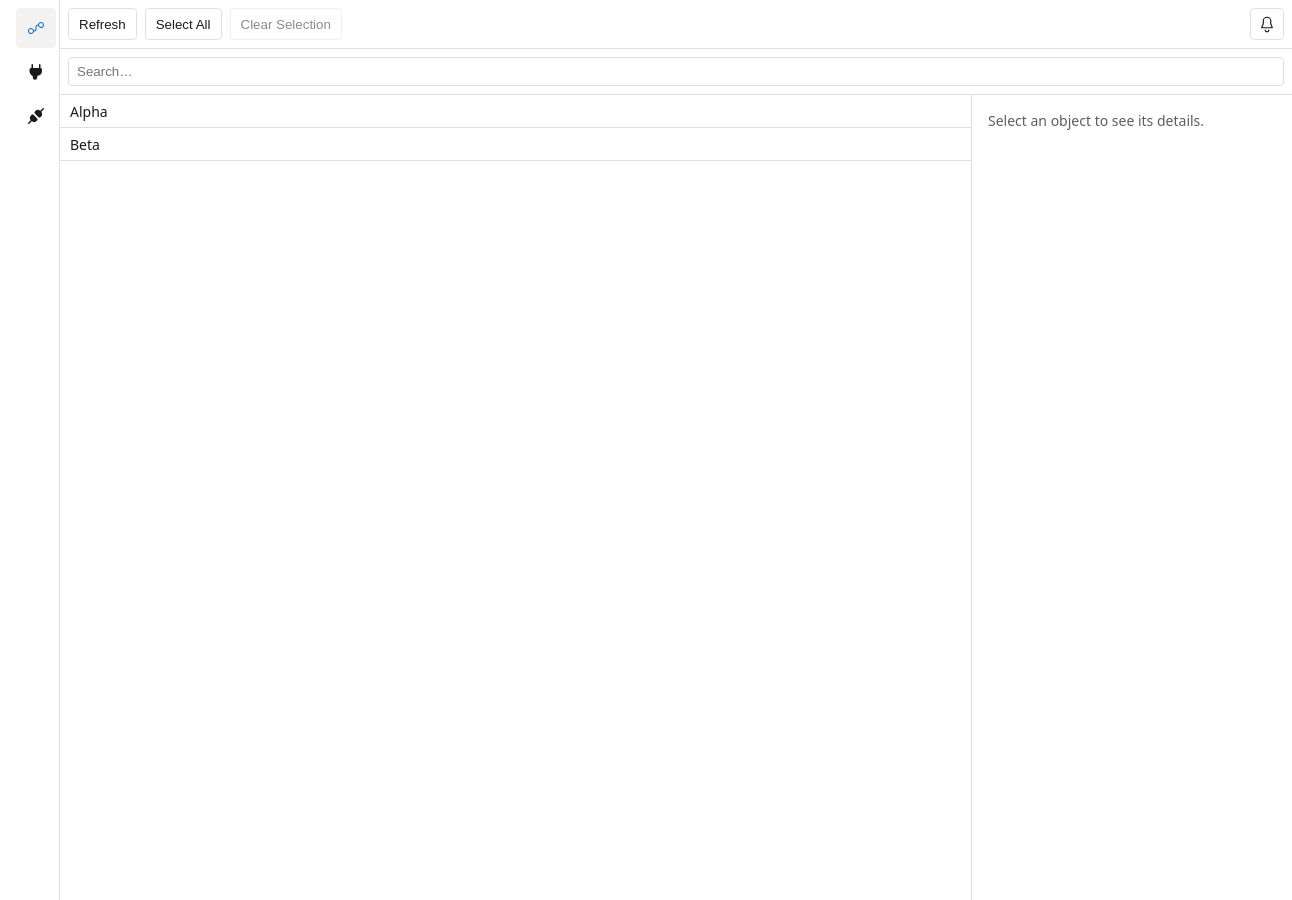
Test: Shell › selects all visible then clears (US4)
The image size is (1292, 900).
Expected: the text "Alpha" is shown, [70,102,108,120]
Expected: the button "Clear Selection" is disabled, [230,8,342,40]
Click the button "Select All" at [183, 24], box [145,8,222,40]
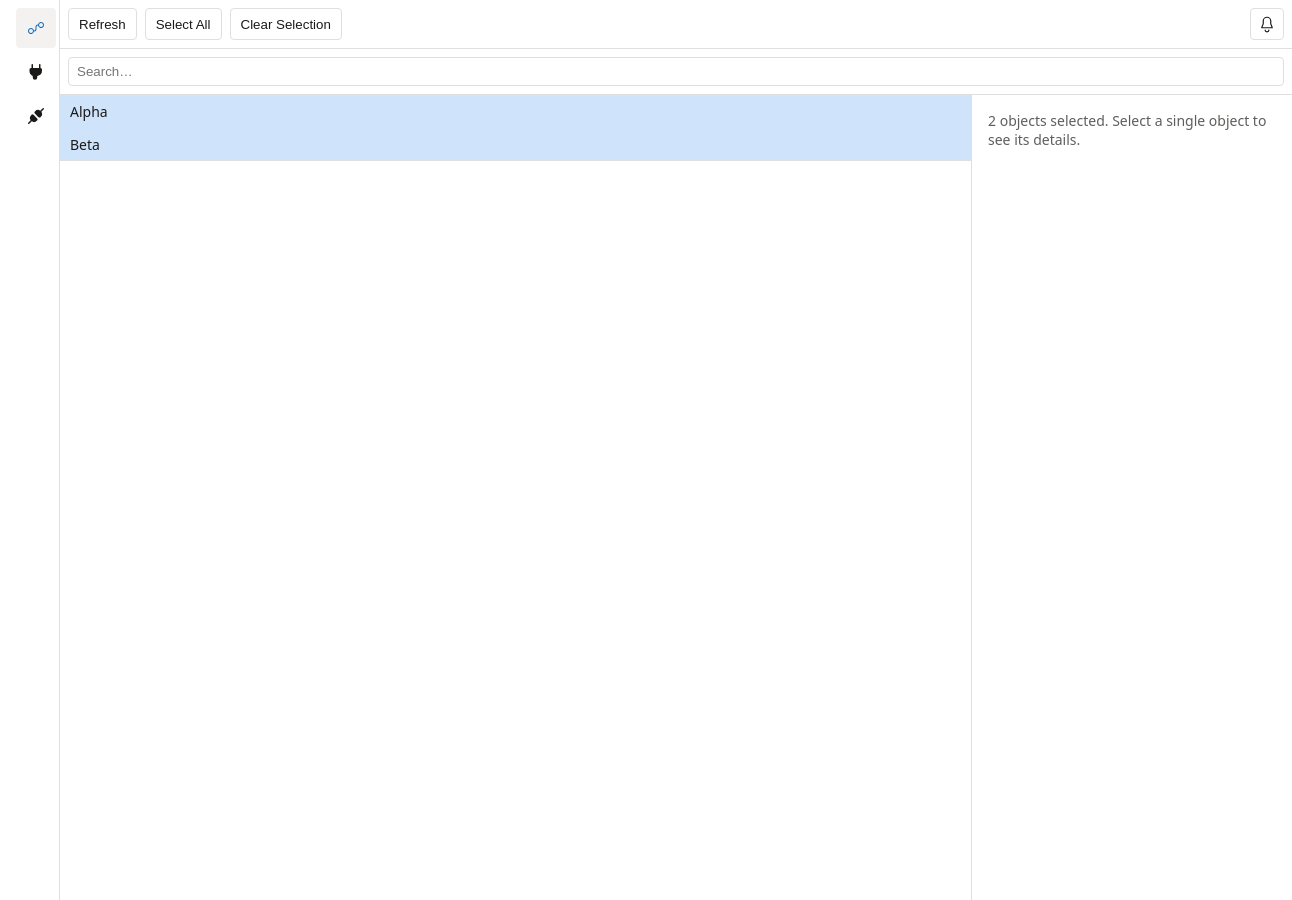
Result: the button "Clear Selection" is enabled
Click the button "Clear Selection" at [286, 24], box [230,8,342,40]
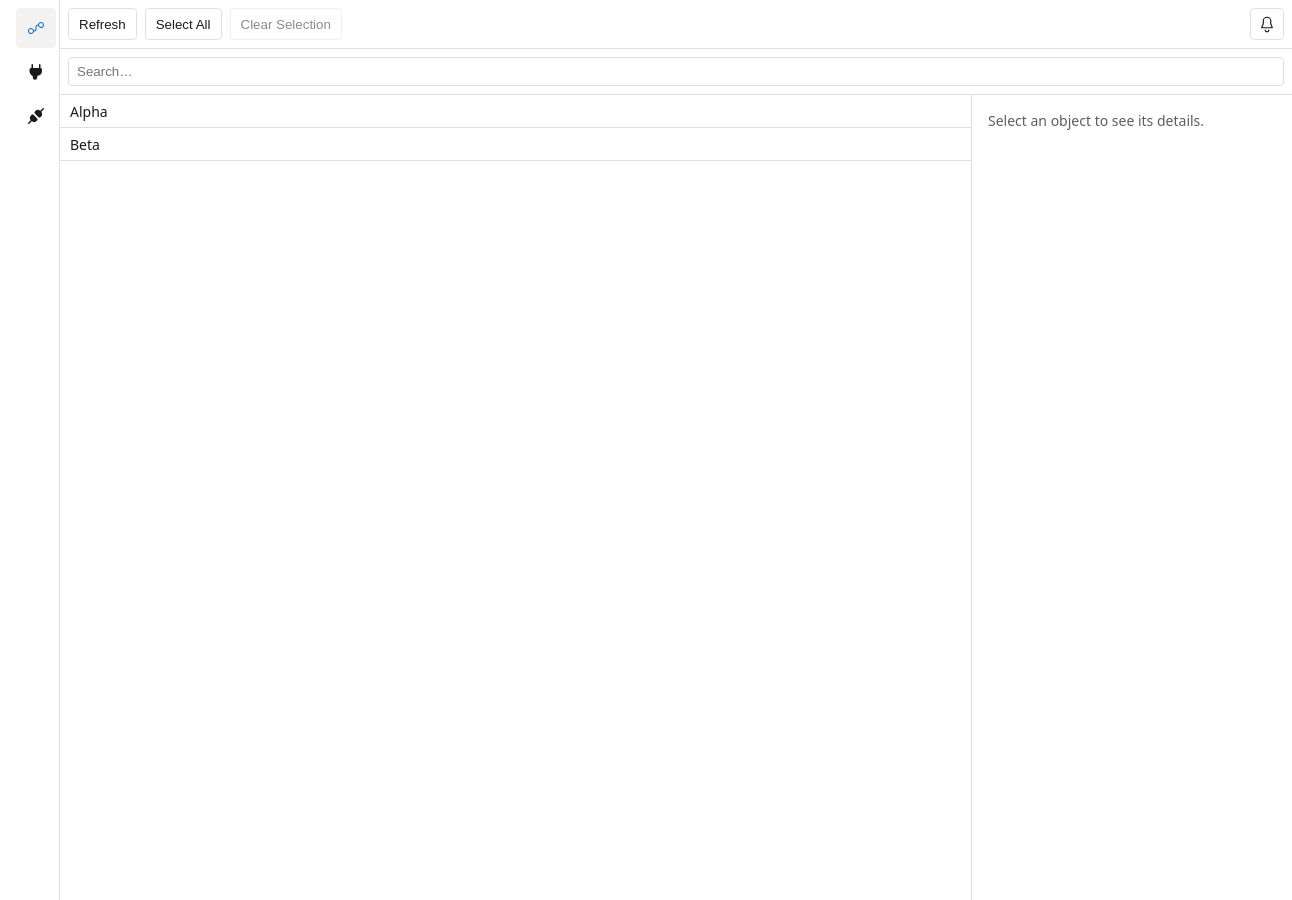
Result: the button "Clear Selection" is disabled at [230,8,342,40]
